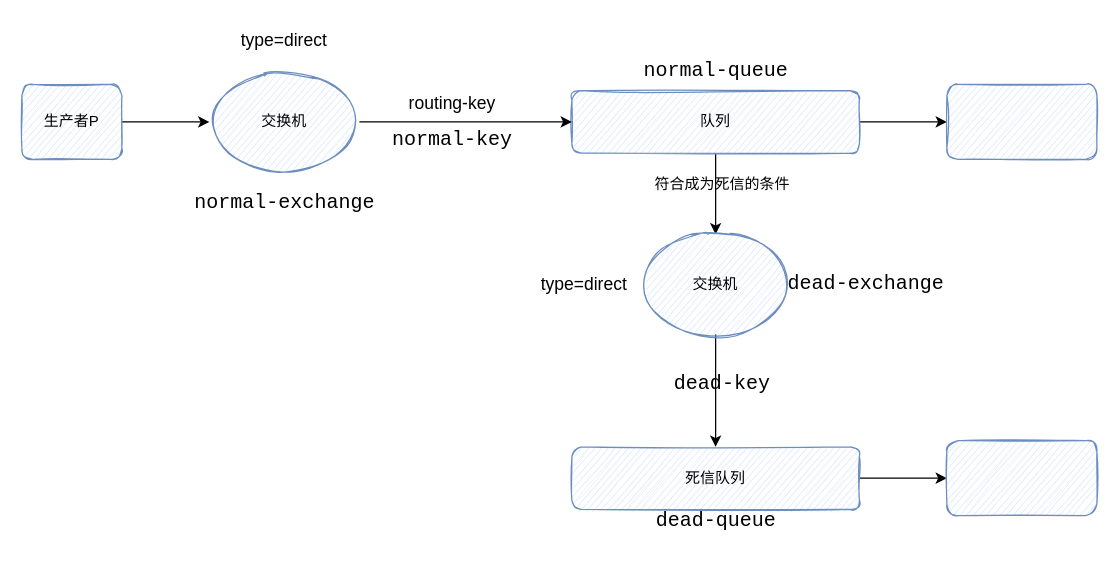
The diagram is 1119 pixels wide and 575 high, and some of its shapes have lost their labels. The box of each missing label's shape, as (x1, y1, x2, y2) in pixels:
死信消费者C2: (946, 439, 1097, 516)
消费者C1: (946, 83, 1097, 159)
